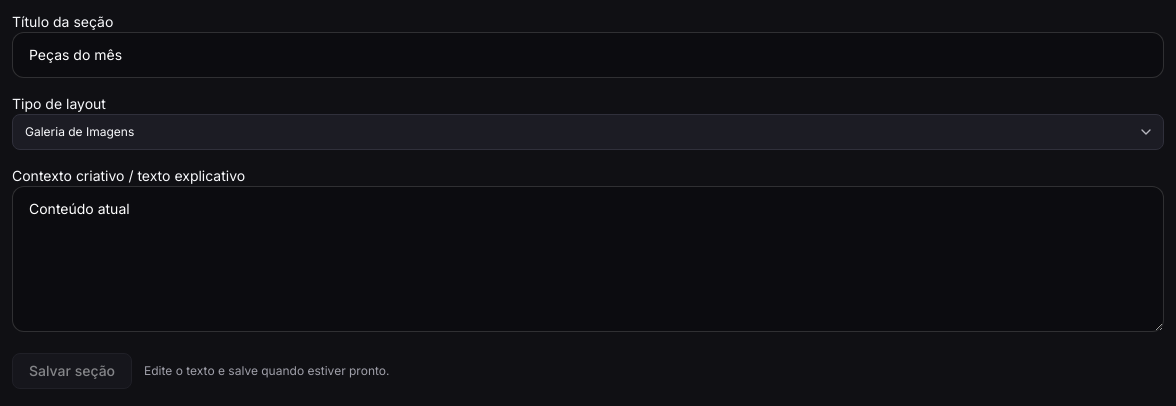
Scenario: presentation section editing › keeps typing local and saves the complete draft only when requested
Replace the text in the field labelled "Título da seção" with "Nova campanha" at (588, 55), box [12,32,1164,78]
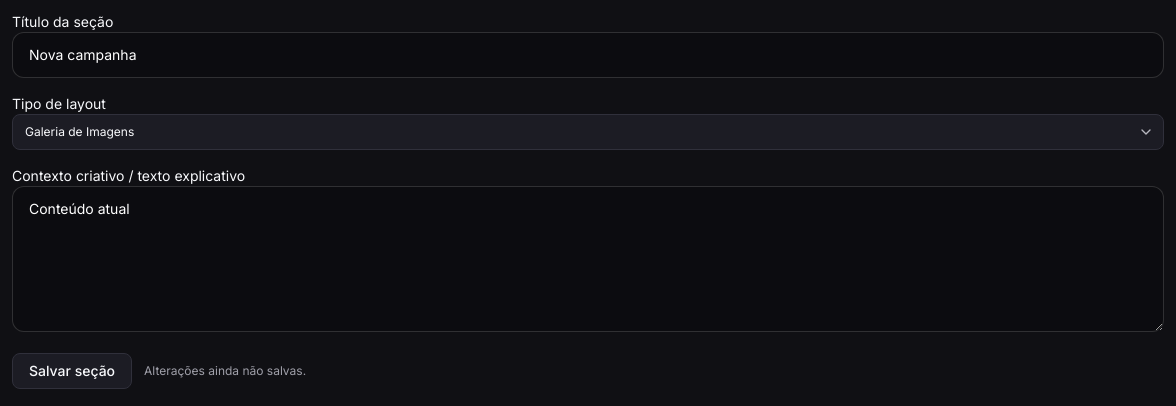
Replace the text in the text box labelled "Contexto criativo / texto explicativo" with "Direção da campanha" at (588, 259), box [12,186,1164,332]
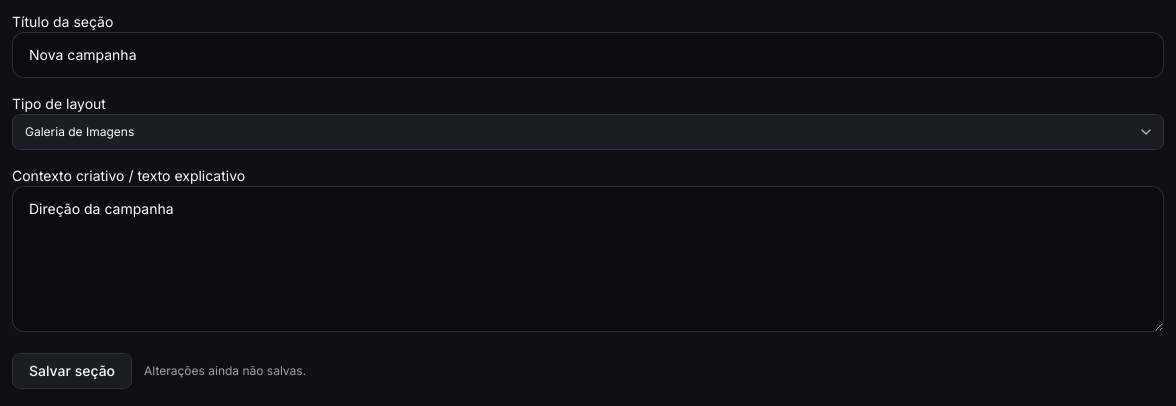
Click the button "Salvar seção" at (72, 371), box [12,353,132,389]
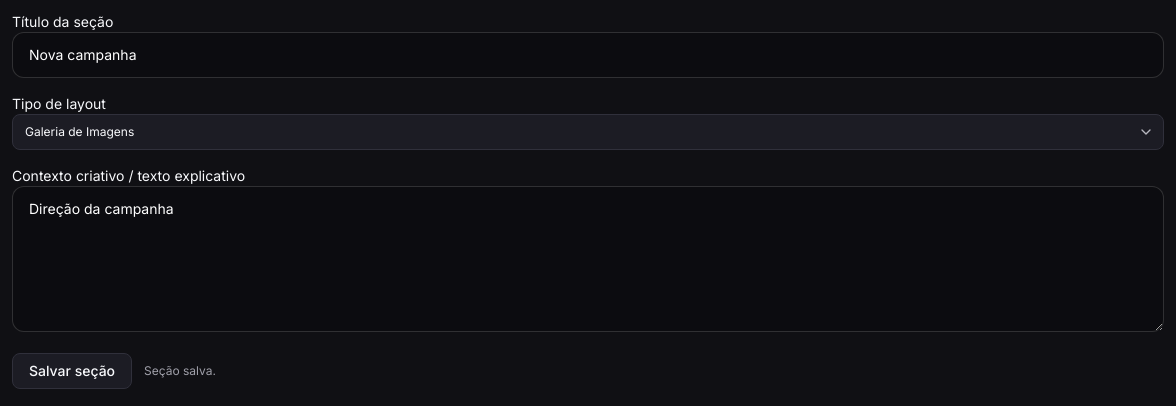
expect the message reads "Seção salva.": met, box [144,363,216,378]
